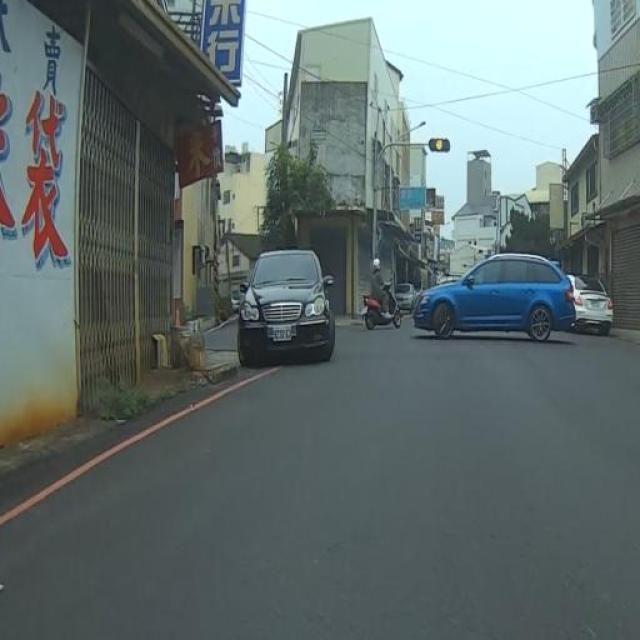illegalparking: (414, 254, 575, 341), (239, 251, 334, 365)
